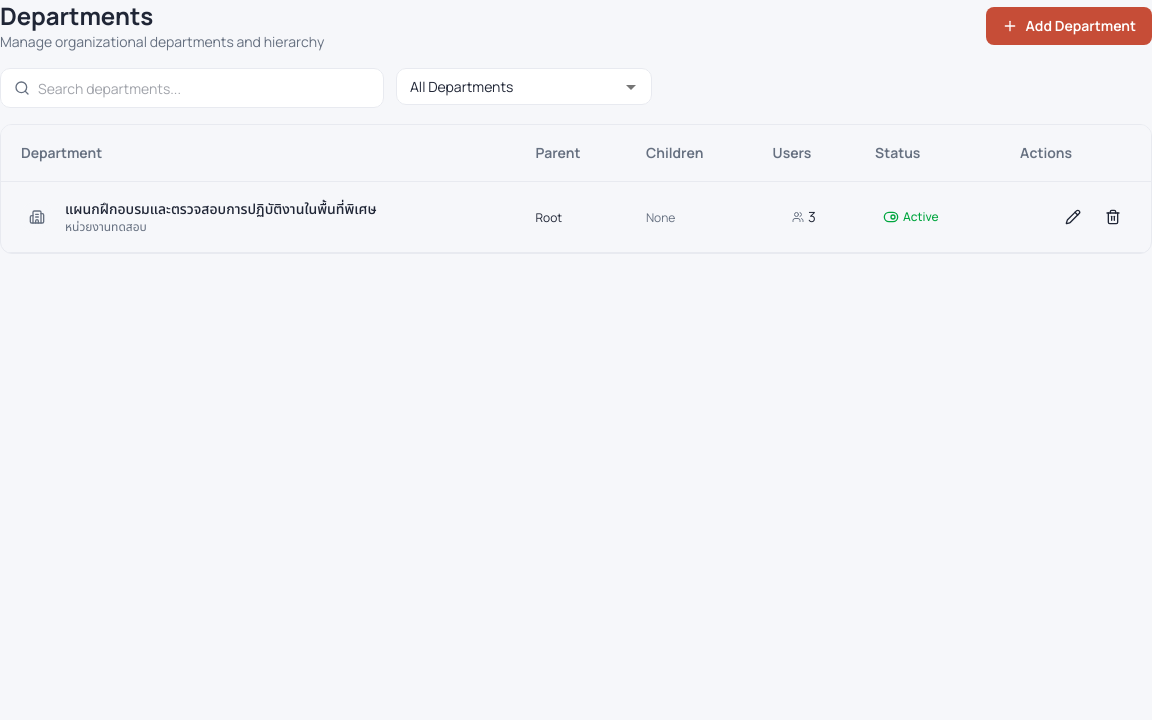
Scenario: retains named department actions and editable values for long Thai names
Click the button named "Edit แผนกฝึกอบรมและตรวจสอบการปฏิบัติงานในพื้นที่พิเศษ": (1073, 217) [1055,198,1091,236]
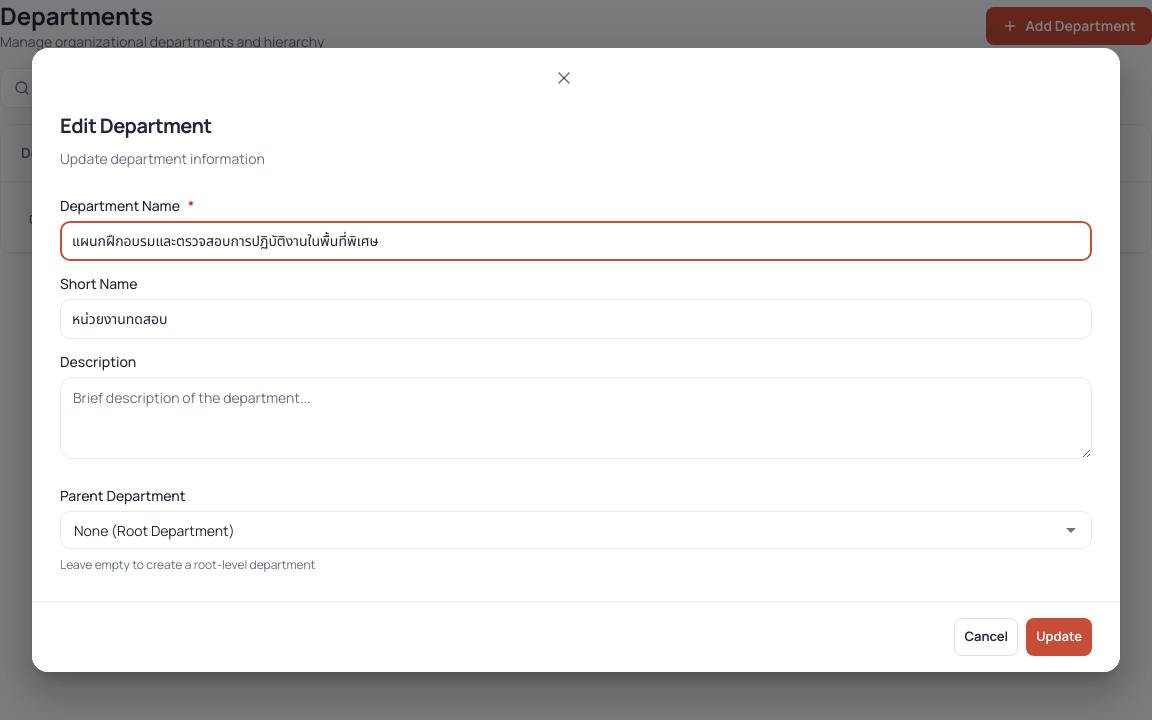
Expected: the field showing "แผนกฝึกอบรมและตรวจสอบการปฏิบัติงานในพื้นที่พิเศษ" is shown, [60,221,1092,261]
Press Escape
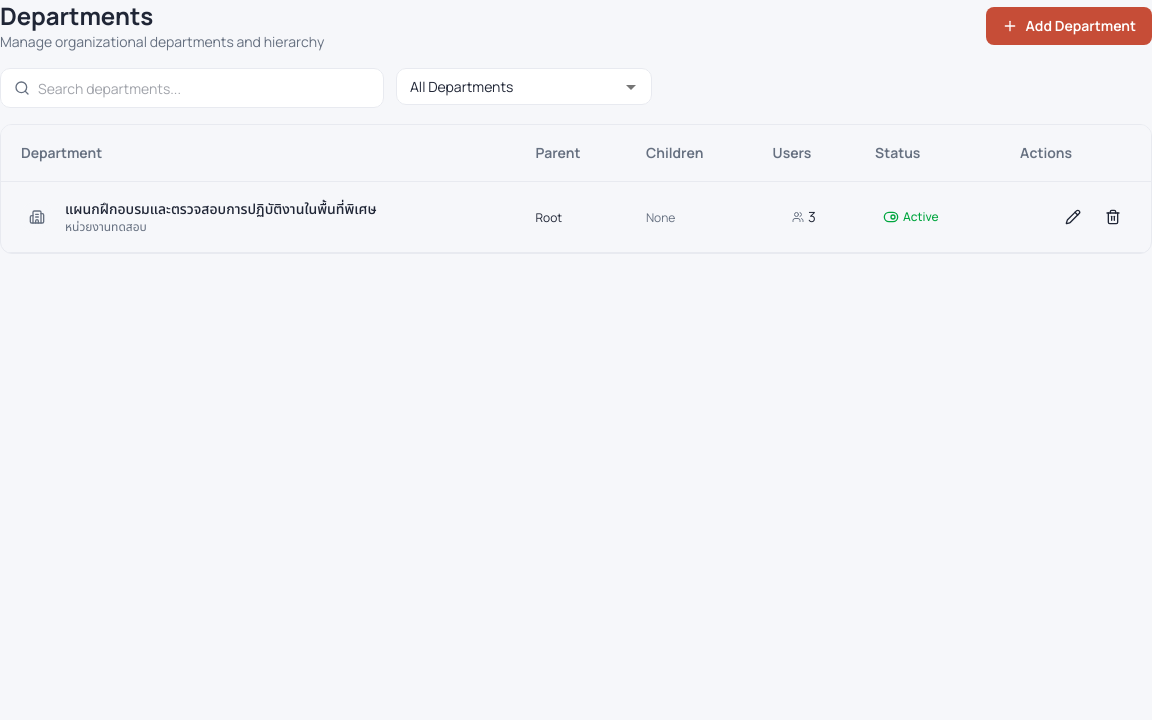
Expected: the dialog is gone
